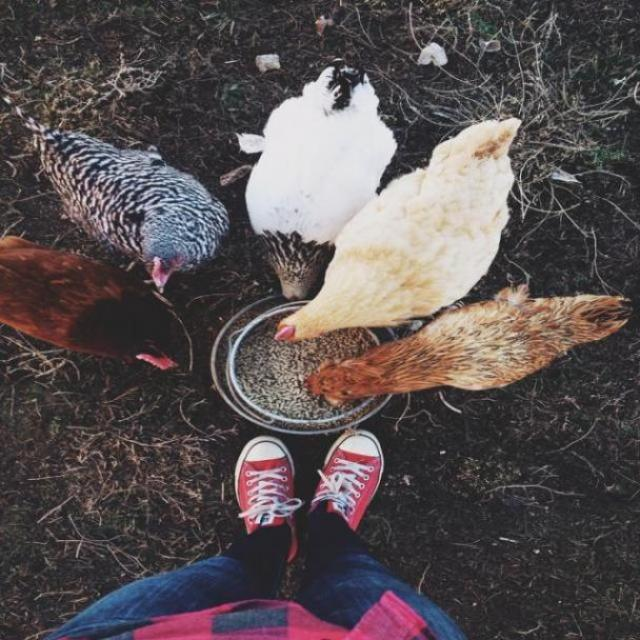Chicken: (273, 114, 522, 354), (292, 277, 639, 415), (5, 99, 235, 303), (226, 57, 405, 310), (0, 232, 200, 385)
